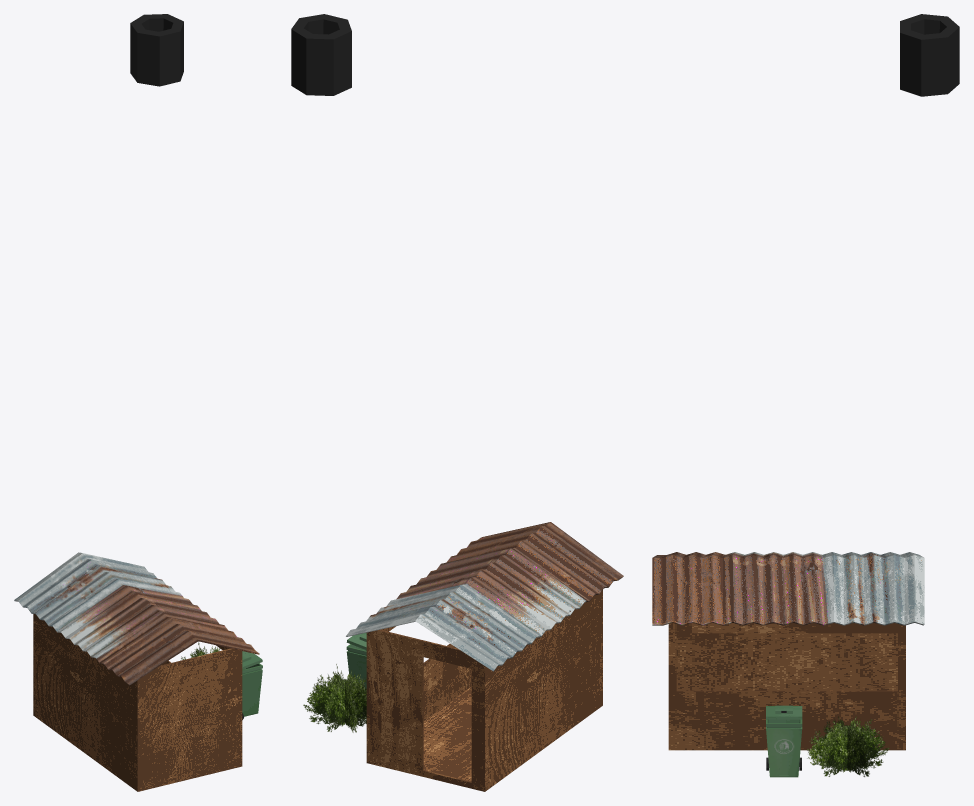
The model's file is Bush.glb.
The picture shows the model from 3 angles, left to right: view 1: azimuth 30°, elevation 25°; view 2: azimuth 150°, elevation 25°; view 3: azimuth 270°, elevation 25°; orthographic projection. The views are drawn at different scales.
Parts seen in each view (by area): view 1: Cube.002, Cube.003, Cylinder.003, Cube; view 2: Cube.002, Cube.003, Cylinder.003, Plane.002, Plane, Plane.001, Cube; view 3: Cube.002, Cube.003, Cylinder.003, Cube, Plane.001, Plane.003, Plane.002.
Boxes of the visible parts, box(x1,y1,x2,y2) form: Cube.002: box(33, 614, 242, 791); Cube.003: box(14, 552, 259, 685); Cylinder.003: box(130, 14, 183, 86); Cube: box(242, 663, 262, 716); Cube.002: box(366, 590, 602, 791); Cube.003: box(346, 522, 623, 671); Cylinder.003: box(291, 14, 351, 95); Plane.002: box(303, 674, 366, 724); Plane: box(311, 671, 366, 726); Plane.001: box(324, 670, 362, 731); Cube: box(346, 644, 366, 688); Cube.002: box(668, 623, 905, 750); Cube.003: box(652, 552, 924, 625); Cylinder.003: box(900, 14, 959, 96); Cube: box(766, 719, 802, 777); Plane.001: box(807, 719, 889, 770); Plane.003: box(819, 716, 871, 776); Plane.002: box(822, 716, 873, 776).
Size of the model in its own units: 8.19 by 25.99 by 9.79.
9 materials, 5 textured.
